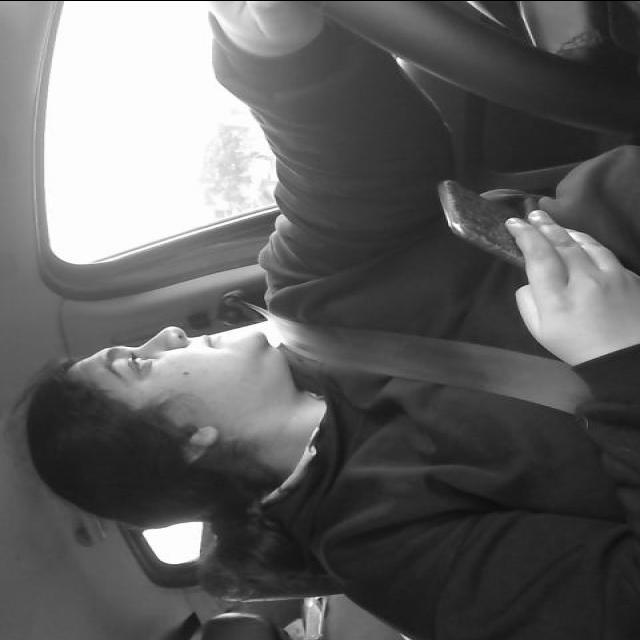mobile use: (440, 168, 530, 260)
